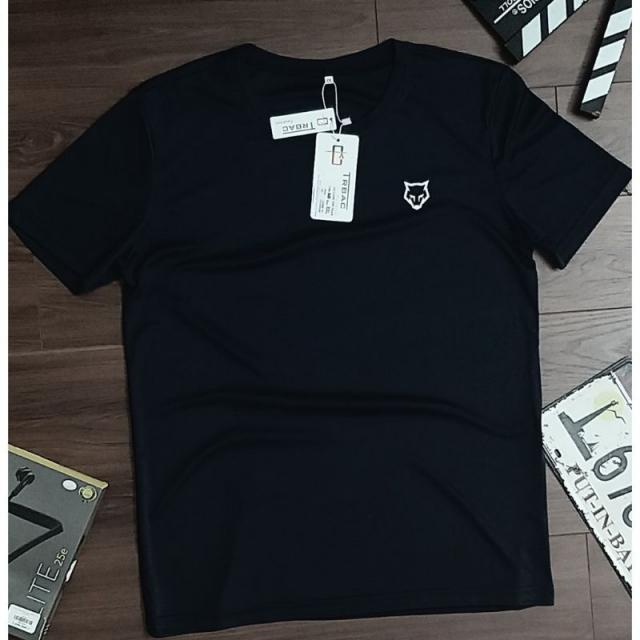Shirt: (7, 41, 628, 630)
